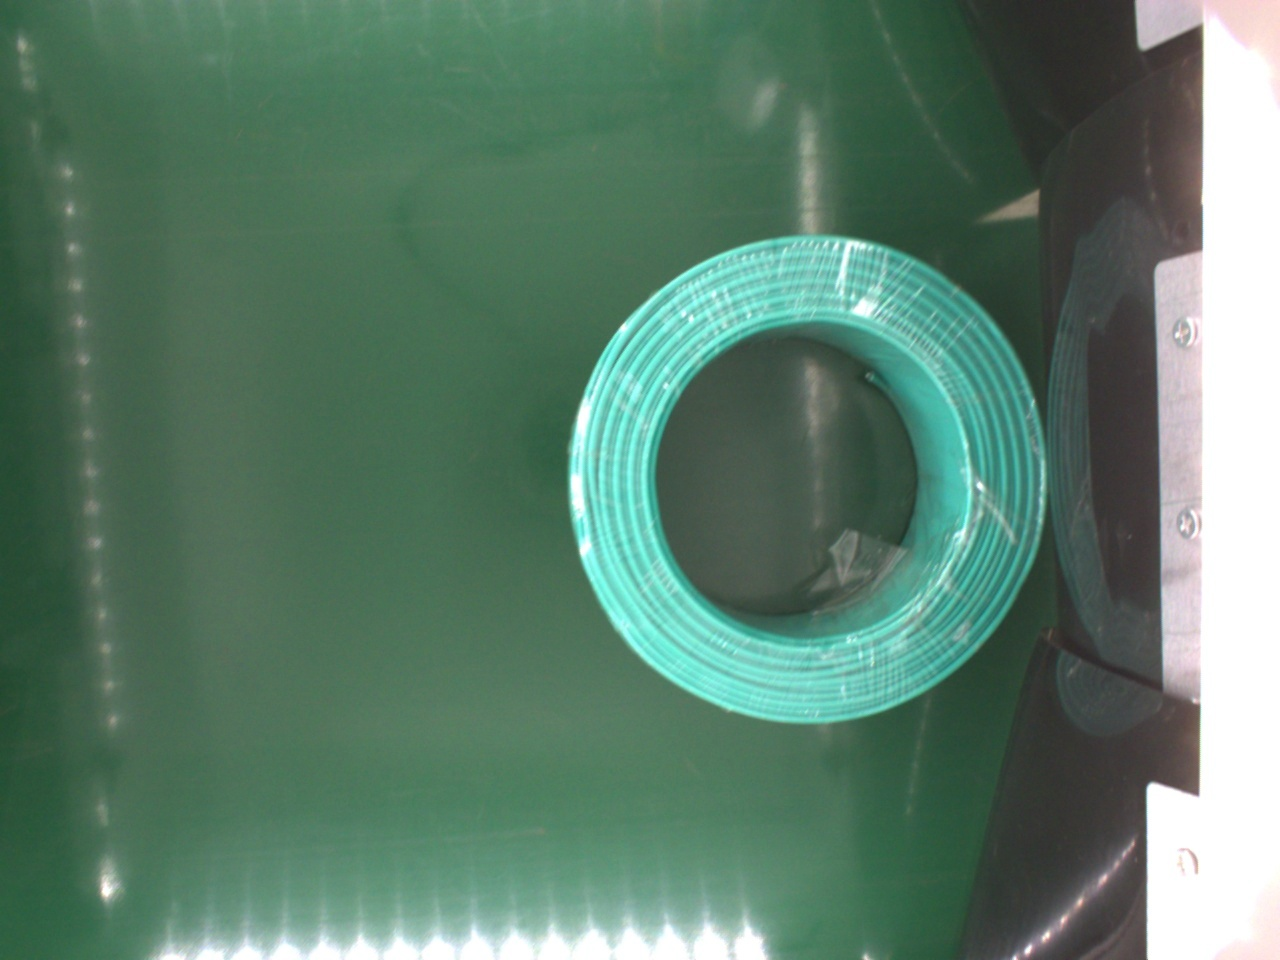green: (567, 230, 1054, 730)
